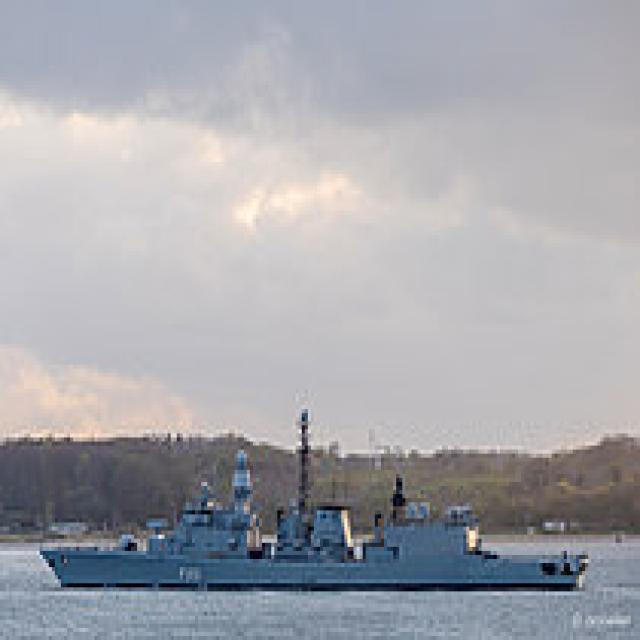Warship: (34, 401, 588, 591)
